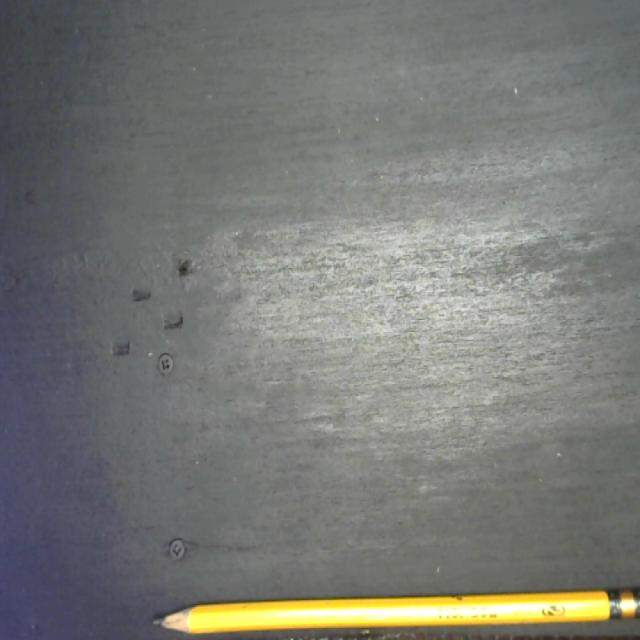biodegradable: (151, 582, 640, 640)
